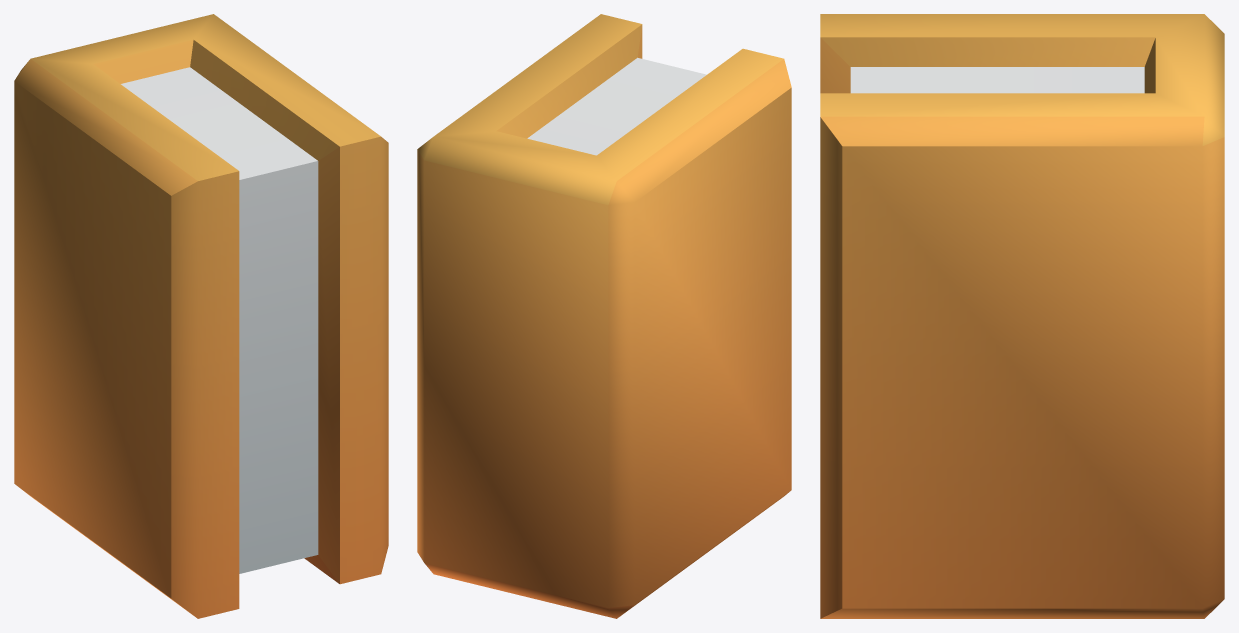
Rendered from book_single.obj.
3 views of the same model, side by side, from view 1: azimuth 30°, elevation 25°; view 2: azimuth 150°, elevation 25°; view 3: azimuth 270°, elevation 25° (orthographic). The views are drawn at different scales.
Parts seen in each view (by area): view 1: book_single_Cube.008; view 2: book_single_Cube.008; view 3: book_single_Cube.008.
Boxes of the visible parts, box(x1,y1,x2,y2) form: book_single_Cube.008: box(14, 14, 388, 618); book_single_Cube.008: box(417, 14, 791, 618); book_single_Cube.008: box(820, 14, 1224, 618).
Bounding box in the file's own units: 0.26 × 0.5 × 0.365.
1 material, 1 textured.
